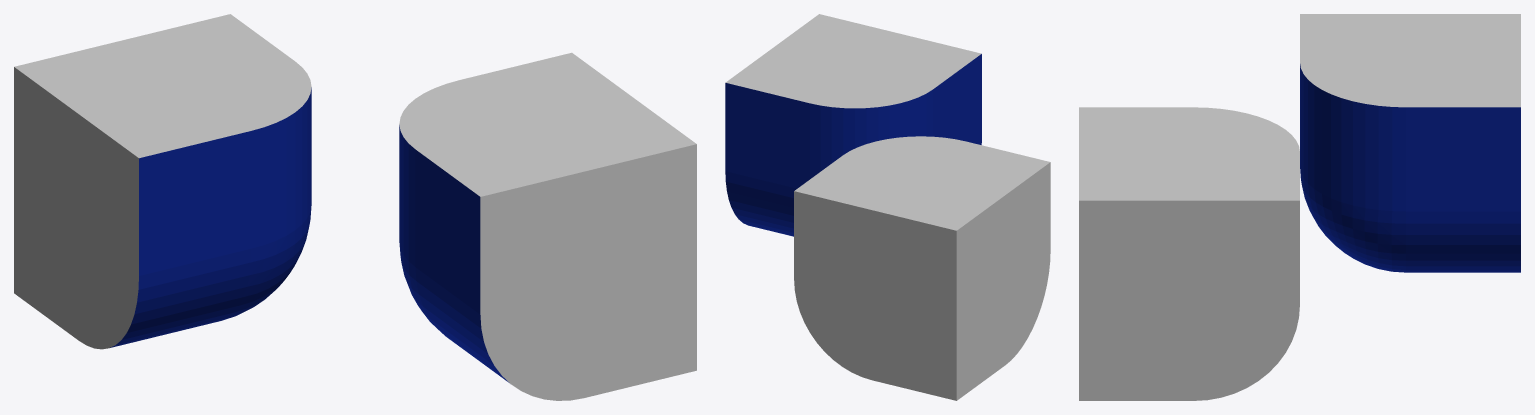
The model's file is case_80.fbx.
The picture shows the model from 3 angles, left to right: view 1: azimuth 30°, elevation 25°; view 2: azimuth 150°, elevation 25°; view 3: azimuth 270°, elevation 25°; orthographic projection. The views are drawn at different scales.
Parts seen in each view (by area): view 1: case_80; view 2: case_80; view 3: case_80.
Boxes of the visible parts, x1,y1,x2,y2 form: case_80: [14, 14, 696, 400]; case_80: [725, 14, 1050, 400]; case_80: [1079, 14, 1520, 400].
Bounding box in the file's own units: 1 × 0.5 × 1.
